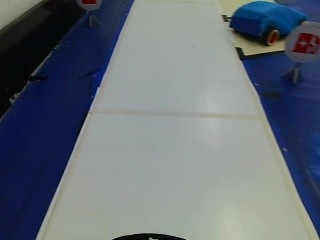battery: (288, 25, 318, 65)
car: (219, 1, 301, 44)
